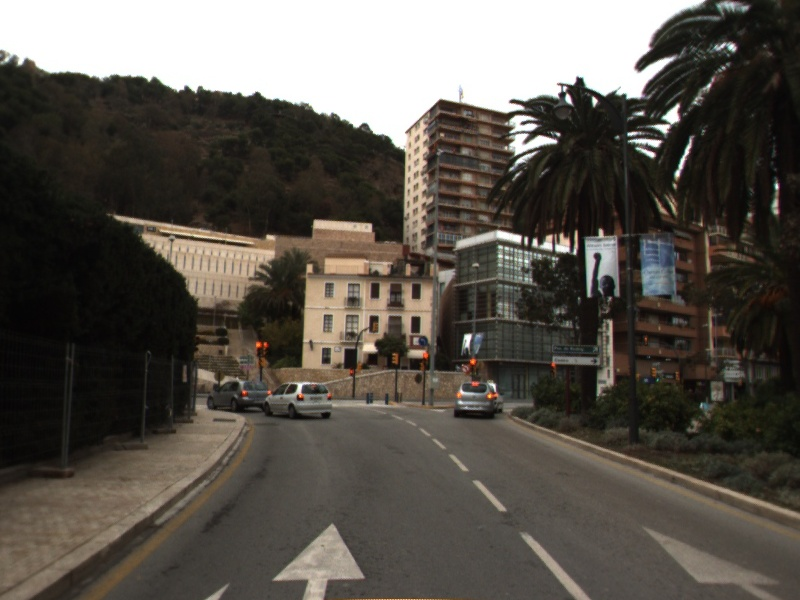STRAIGHT: (640, 524, 782, 600), (270, 519, 367, 600)
